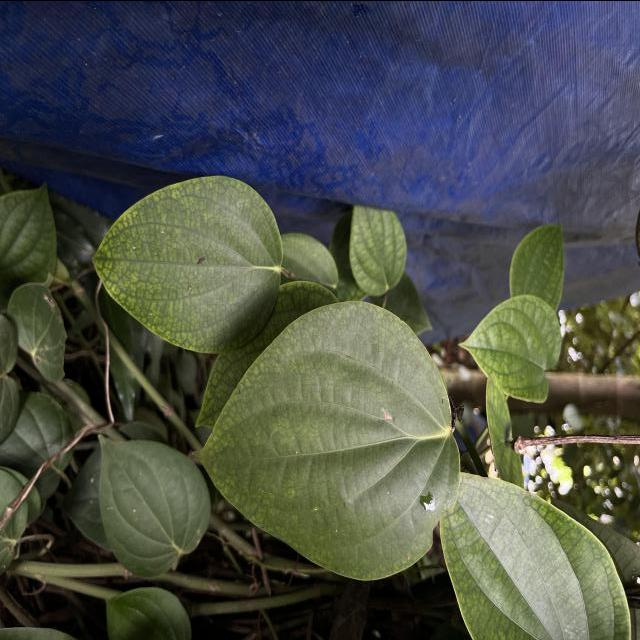Piper nigrum: (197, 298, 462, 582), (90, 172, 286, 356)
